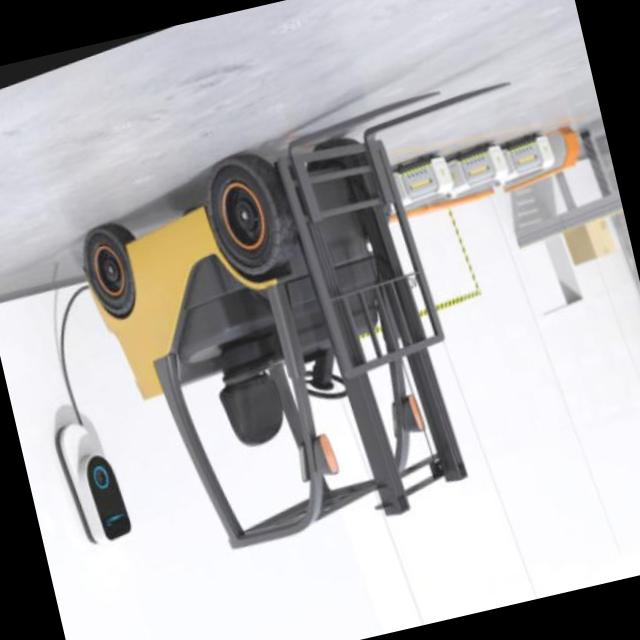forklift: (42, 84, 532, 615)
